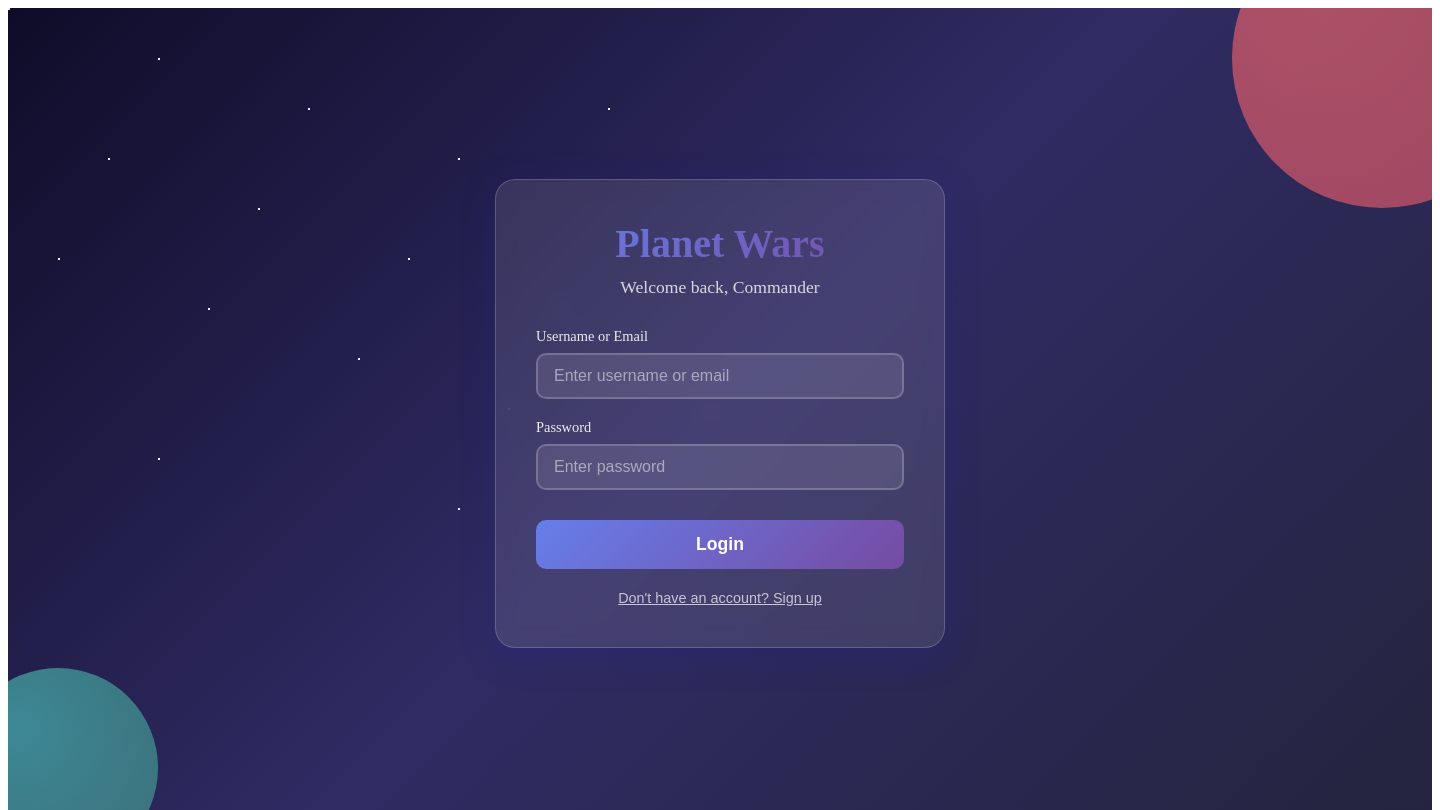
Test: AuthPage › validates password match during signup
The image size is (1440, 810).
// Switch to signup
Click the button "Don't have an account? Sign up" at (720, 598), box [612,588,828,606]
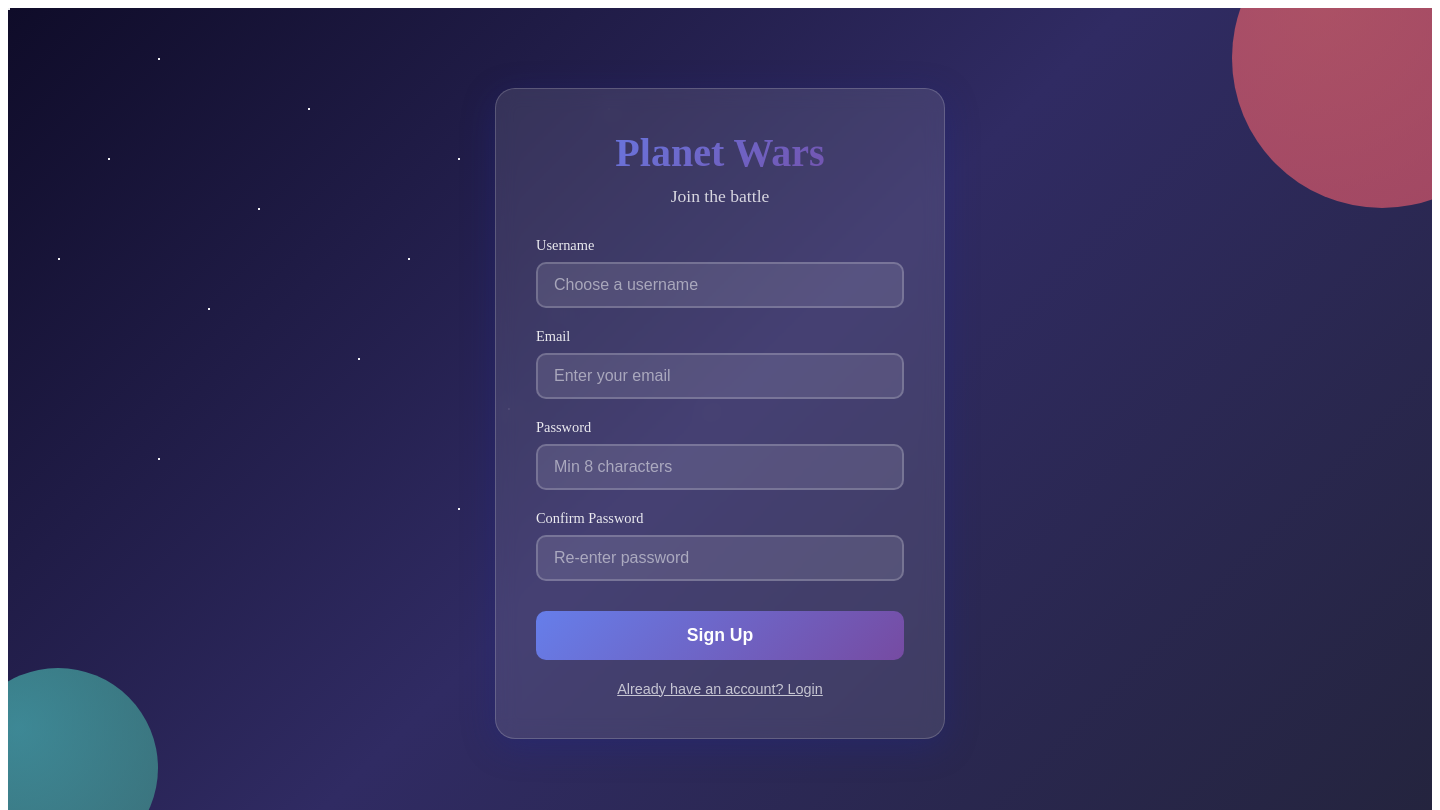
// Fill form with mismatched passwords
Type "testuser" into the field with placeholder "Choose a username" at (720, 284), box [536,262,904,308]
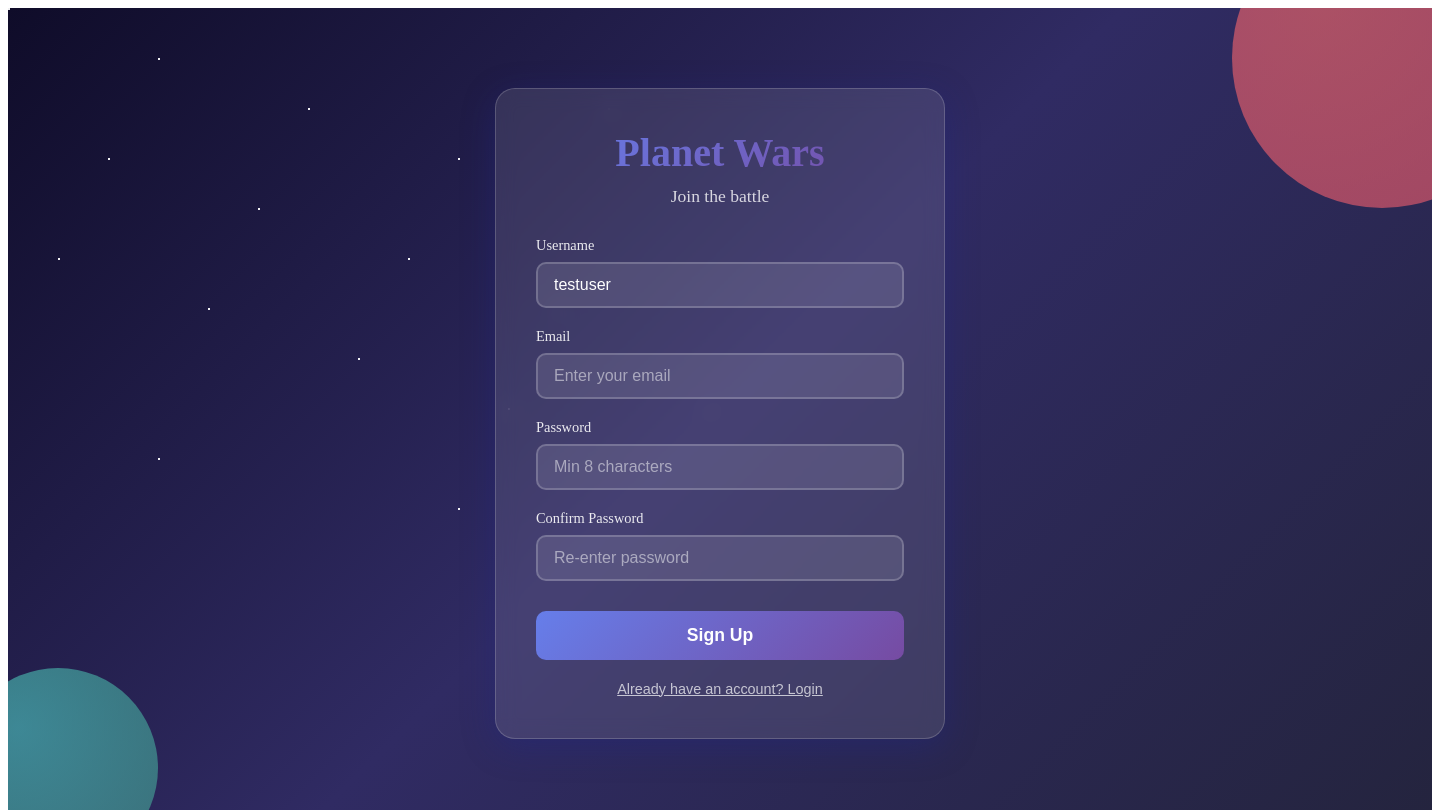
Type "test@example.com" into the field with placeholder "Enter your email" at (720, 376), box [536,352,904,398]
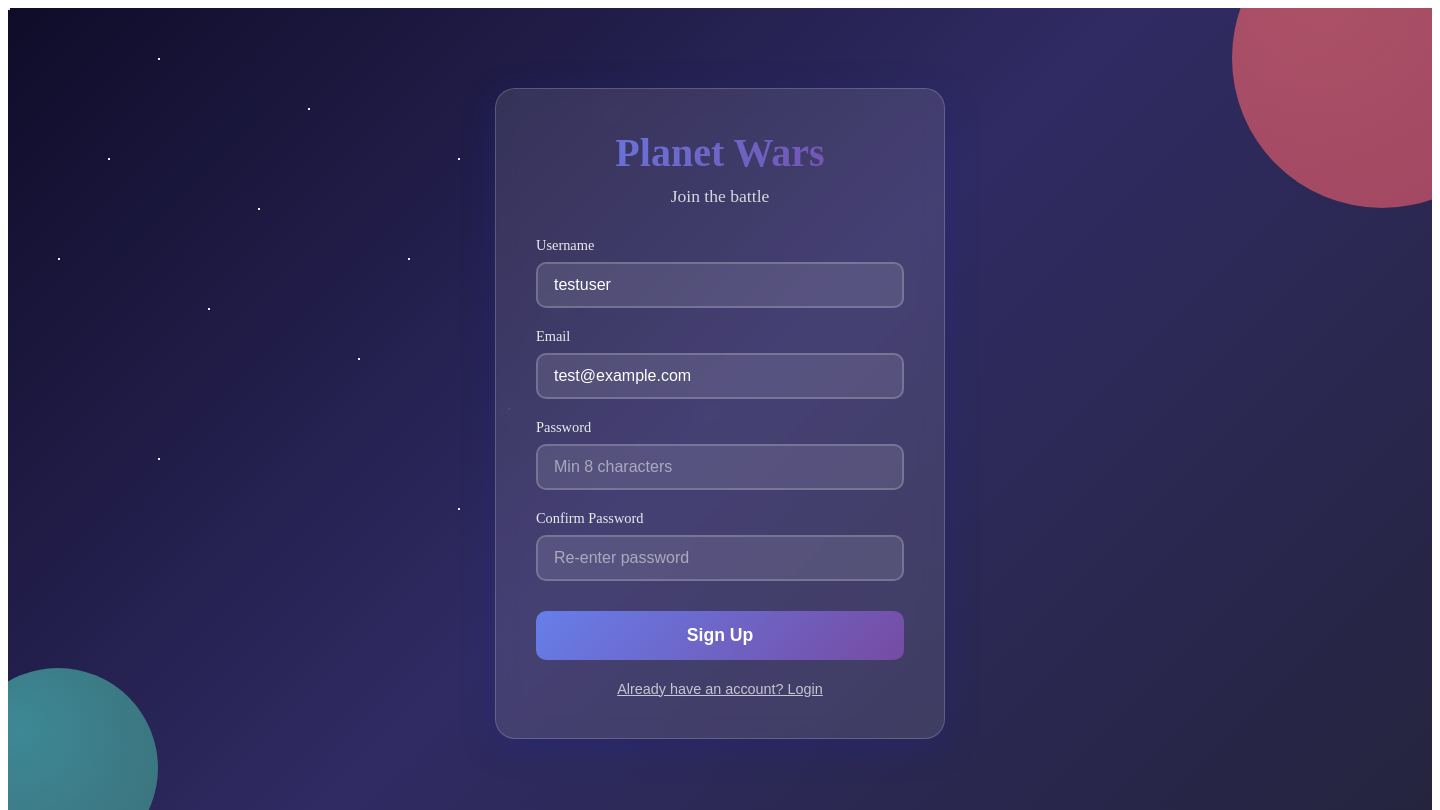
Type "password123" into the password field with placeholder "Min 8 characters" at (720, 466), box [536,444,904,490]
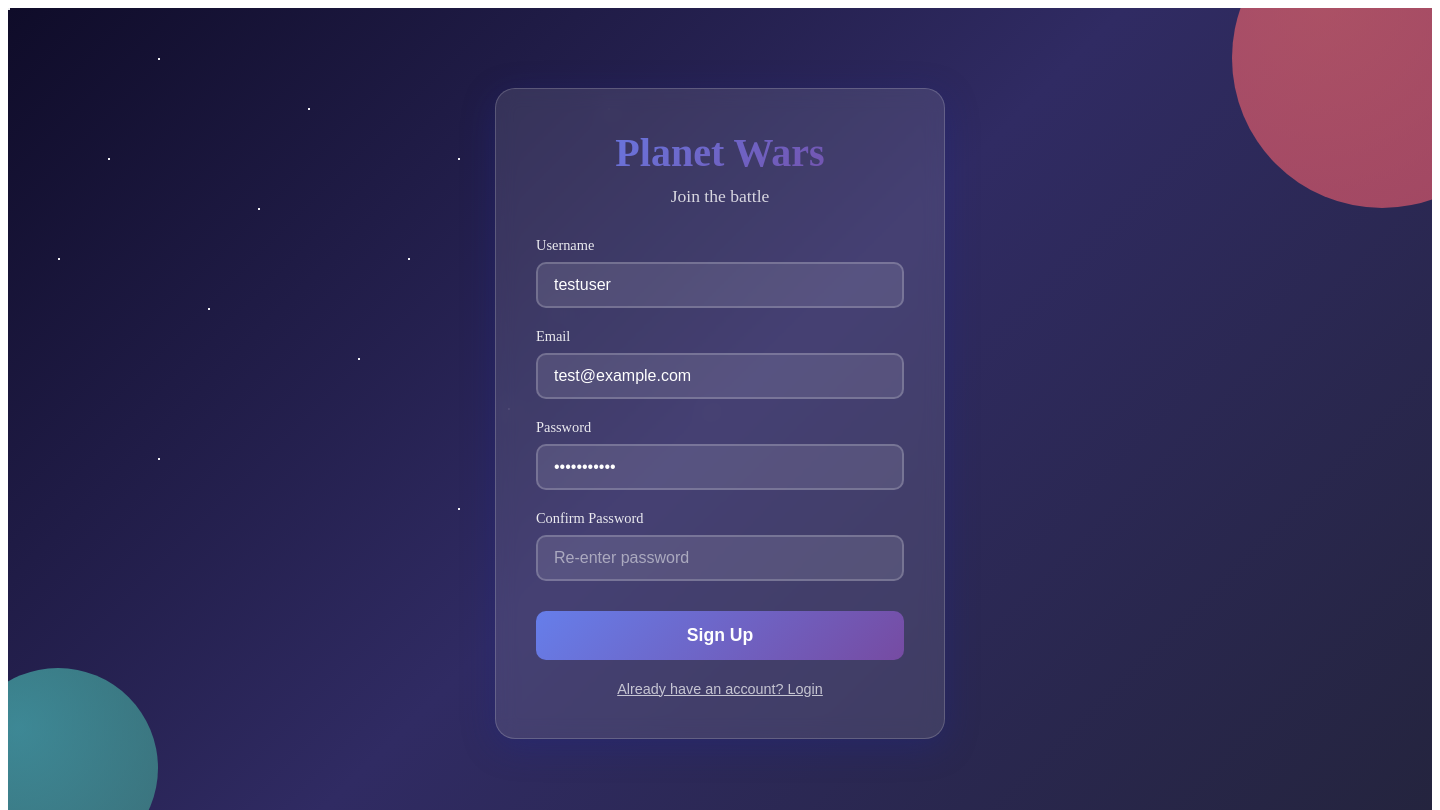
Type "mismatch" into the password field with placeholder "Re-enter password" at (720, 558), box [536,534,904,580]
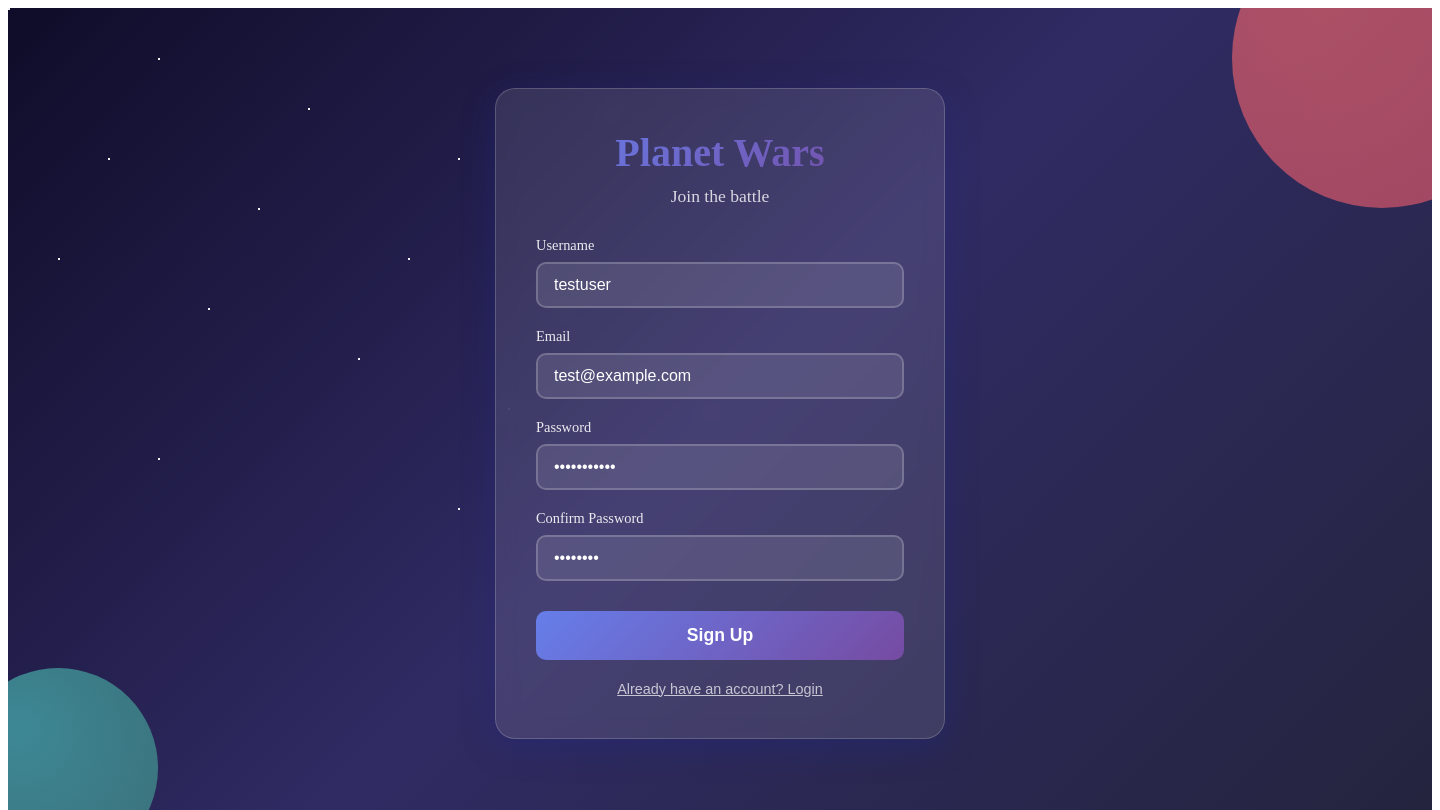
Click the button "Sign Up" at (720, 635), box [536,610,904,660]
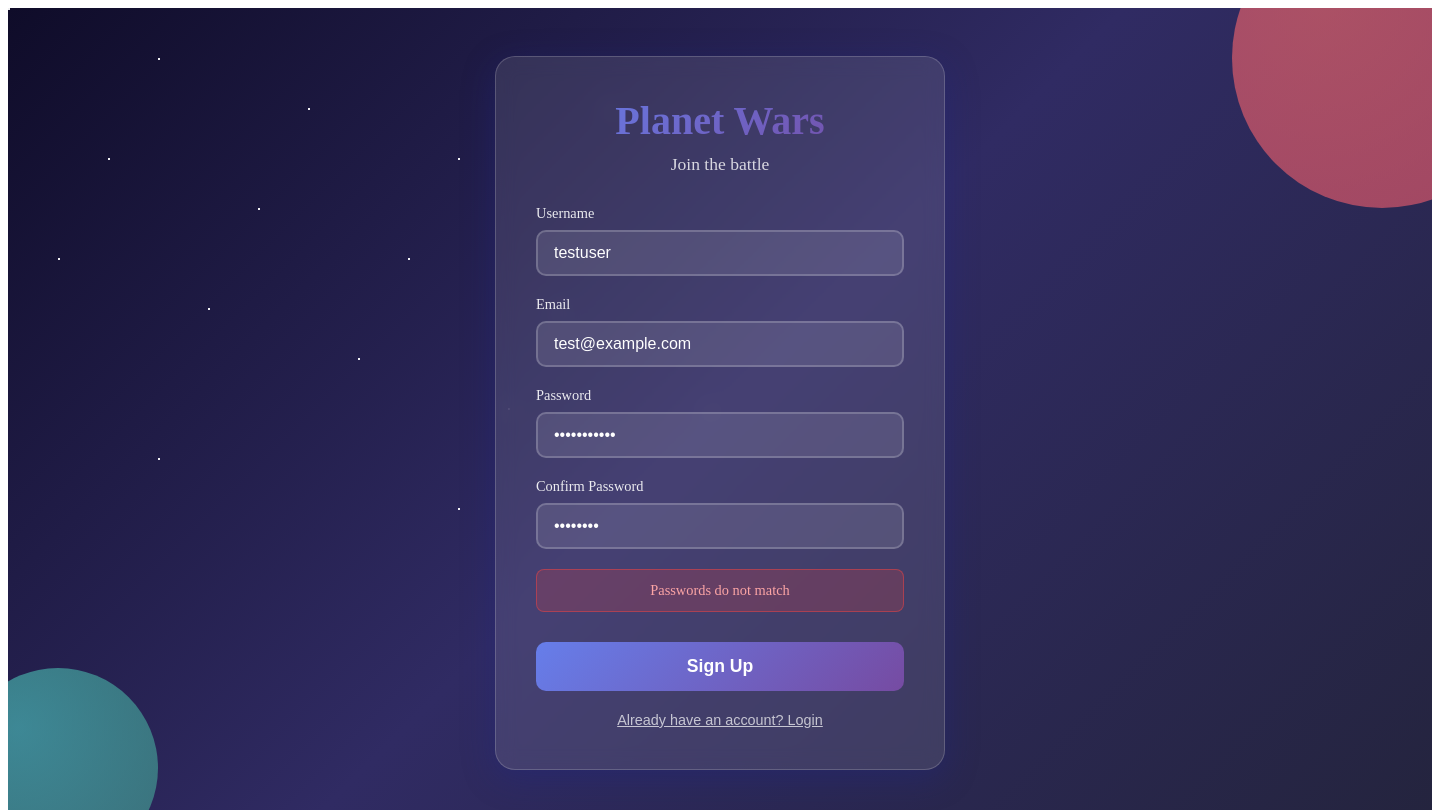
Expected: the text "Passwords do not match" is shown, [536,569,904,612]
